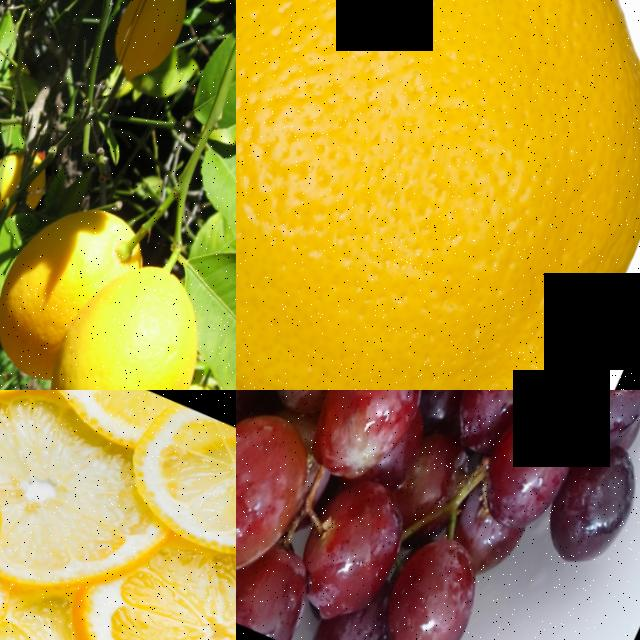lemon: (236, 0, 640, 390), (0, 186, 126, 390), (27, 270, 220, 390), (69, 534, 236, 640), (96, 0, 198, 93)
peanuts: (236, 390, 640, 640)
